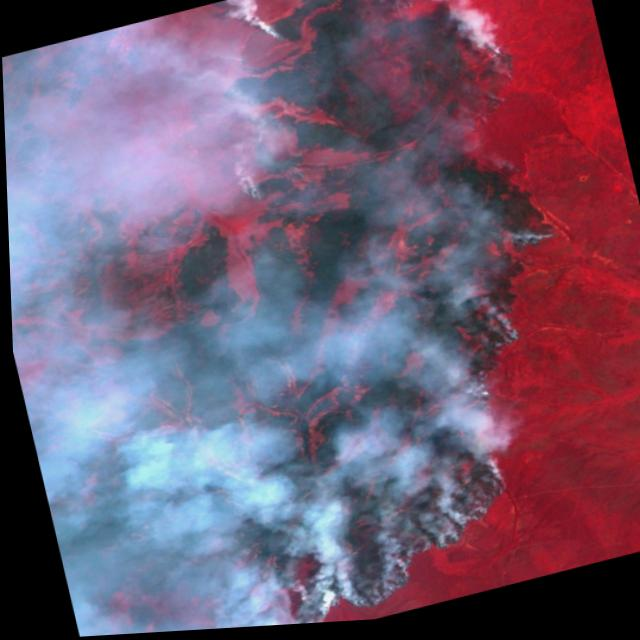fire: (197, 441, 538, 631), (395, 212, 607, 452), (454, 0, 532, 97), (237, 0, 302, 65), (225, 148, 269, 219)
